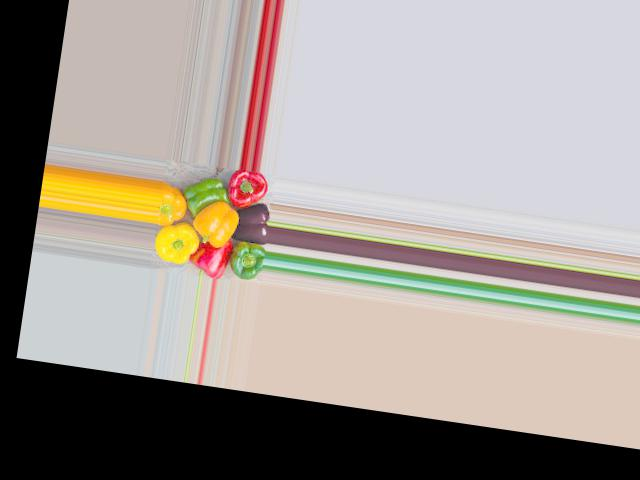bell_pepper: (157, 172, 200, 229)
